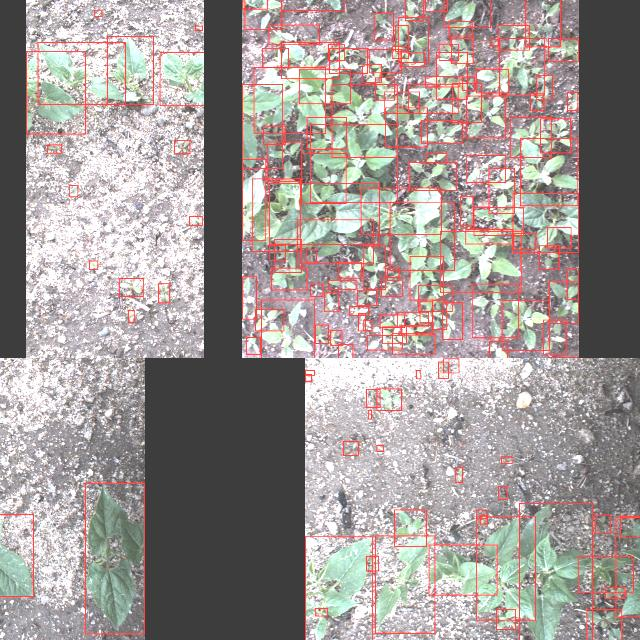crop: (518, 502, 591, 640), (84, 482, 144, 634), (304, 536, 371, 640), (267, 182, 378, 244), (476, 516, 534, 620), (374, 536, 434, 632), (37, 42, 125, 104), (25, 51, 85, 133), (512, 192, 578, 252), (361, 187, 442, 233), (251, 178, 299, 250), (428, 544, 496, 594), (106, 36, 152, 104), (0, 514, 33, 596), (615, 517, 640, 616), (159, 51, 204, 105), (241, 158, 265, 240), (578, 555, 632, 591)
weed: (309, 124, 396, 202), (440, 230, 520, 292), (331, 84, 397, 156), (253, 66, 325, 132), (388, 202, 454, 270), (520, 138, 578, 205), (241, 84, 281, 168), (297, 219, 373, 263), (260, 299, 313, 358), (500, 37, 544, 94), (472, 283, 518, 337), (300, 153, 346, 203), (502, 300, 548, 350), (281, 42, 339, 78), (298, 68, 349, 104), (510, 117, 552, 157), (465, 95, 505, 137), (525, 0, 560, 46), (385, 108, 427, 146), (408, 83, 458, 113), (409, 255, 443, 299), (473, 207, 523, 235), (436, 52, 466, 98), (398, 16, 428, 62), (267, 141, 301, 181), (408, 162, 456, 190), (306, 116, 346, 148), (443, 0, 490, 27), (549, 281, 579, 323), (451, 82, 481, 121), (394, 509, 426, 545), (488, 168, 514, 212), (586, 609, 621, 640), (243, 0, 280, 29), (466, 154, 504, 182), (540, 118, 570, 152), (268, 24, 318, 44), (363, 245, 385, 289), (329, 48, 367, 72), (421, 120, 462, 142), (274, 238, 300, 272), (418, 285, 452, 311), (392, 332, 434, 353), (497, 24, 529, 50), (542, 319, 566, 353), (270, 267, 306, 289), (476, 68, 508, 92), (368, 48, 400, 72), (384, 91, 418, 113), (466, 228, 512, 244), (442, 302, 462, 338), (548, 38, 578, 61), (254, 308, 284, 329), (451, 35, 473, 63), (241, 276, 255, 318), (366, 334, 402, 350), (373, 12, 393, 40), (376, 388, 400, 410), (262, 47, 288, 67), (539, 245, 559, 269), (547, 227, 571, 247), (396, 312, 428, 326), (619, 515, 640, 536), (374, 77, 394, 99), (118, 278, 142, 296), (448, 20, 472, 38), (381, 276, 402, 296), (432, 299, 446, 329), (262, 125, 284, 144), (495, 609, 515, 629), (337, 261, 361, 277), (382, 326, 406, 342), (536, 75, 552, 99), (404, 0, 423, 20), (394, 25, 408, 51), (460, 195, 472, 225), (424, 76, 460, 86), (513, 233, 535, 249), (362, 64, 381, 82), (380, 314, 404, 328), (400, 52, 424, 66), (489, 340, 507, 358), (438, 44, 458, 60), (401, 324, 432, 334), (568, 268, 578, 298), (324, 292, 338, 312), (327, 279, 355, 289), (356, 290, 376, 304), (314, 323, 328, 342), (327, 44, 343, 60), (268, 244, 284, 260), (245, 336, 259, 354), (530, 92, 544, 110), (596, 514, 610, 532), (365, 388, 379, 406), (420, 301, 432, 321), (605, 586, 625, 598), (337, 343, 352, 358), (174, 139, 190, 153), (342, 441, 358, 455), (425, 0, 447, 10), (426, 152, 446, 162), (241, 0, 266, 8), (444, 358, 458, 372), (392, 46, 408, 58), (158, 284, 168, 302), (567, 92, 577, 110), (462, 76, 474, 90), (366, 556, 378, 570), (348, 306, 368, 314), (438, 361, 448, 377), (310, 283, 322, 295), (387, 268, 399, 280), (330, 330, 340, 344), (454, 466, 462, 482), (305, 249, 315, 261), (188, 216, 202, 224), (47, 144, 61, 152), (358, 312, 364, 330), (498, 486, 507, 498), (69, 184, 77, 196), (314, 607, 326, 615), (476, 509, 486, 518), (363, 320, 371, 330), (128, 310, 134, 322), (89, 260, 98, 268), (479, 514, 486, 524), (501, 456, 512, 462), (194, 24, 202, 30), (490, 39, 498, 45), (304, 373, 310, 381), (304, 370, 314, 374), (94, 9, 100, 15), (376, 445, 382, 451), (416, 369, 420, 378), (368, 409, 370, 418)
